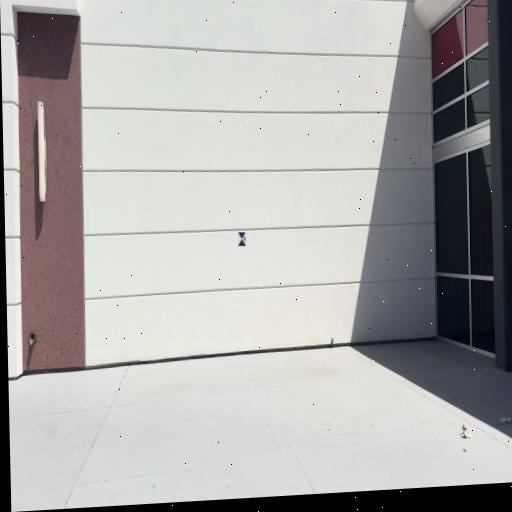target4: (238, 232, 246, 246)
